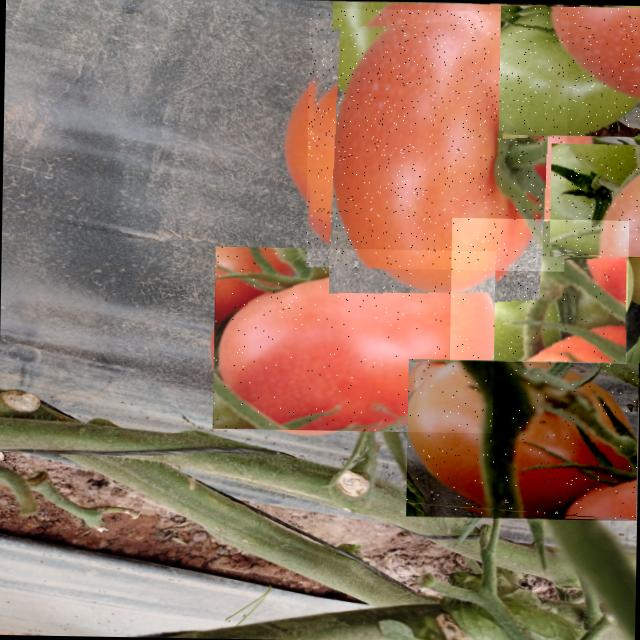Ripe Tomato: (305, 8, 568, 271), (212, 246, 494, 433), (406, 358, 640, 520)
Unripe Tomato: (450, 218, 628, 364), (498, 5, 640, 137), (549, 143, 640, 258)
